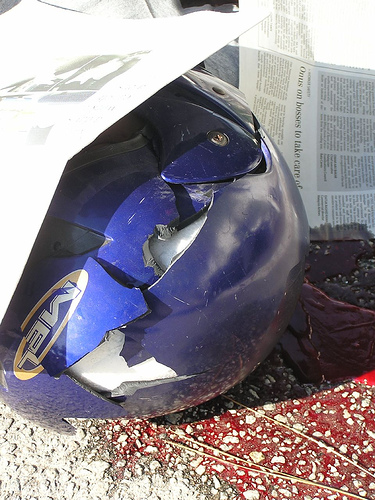helmet: (22, 80, 312, 423)
